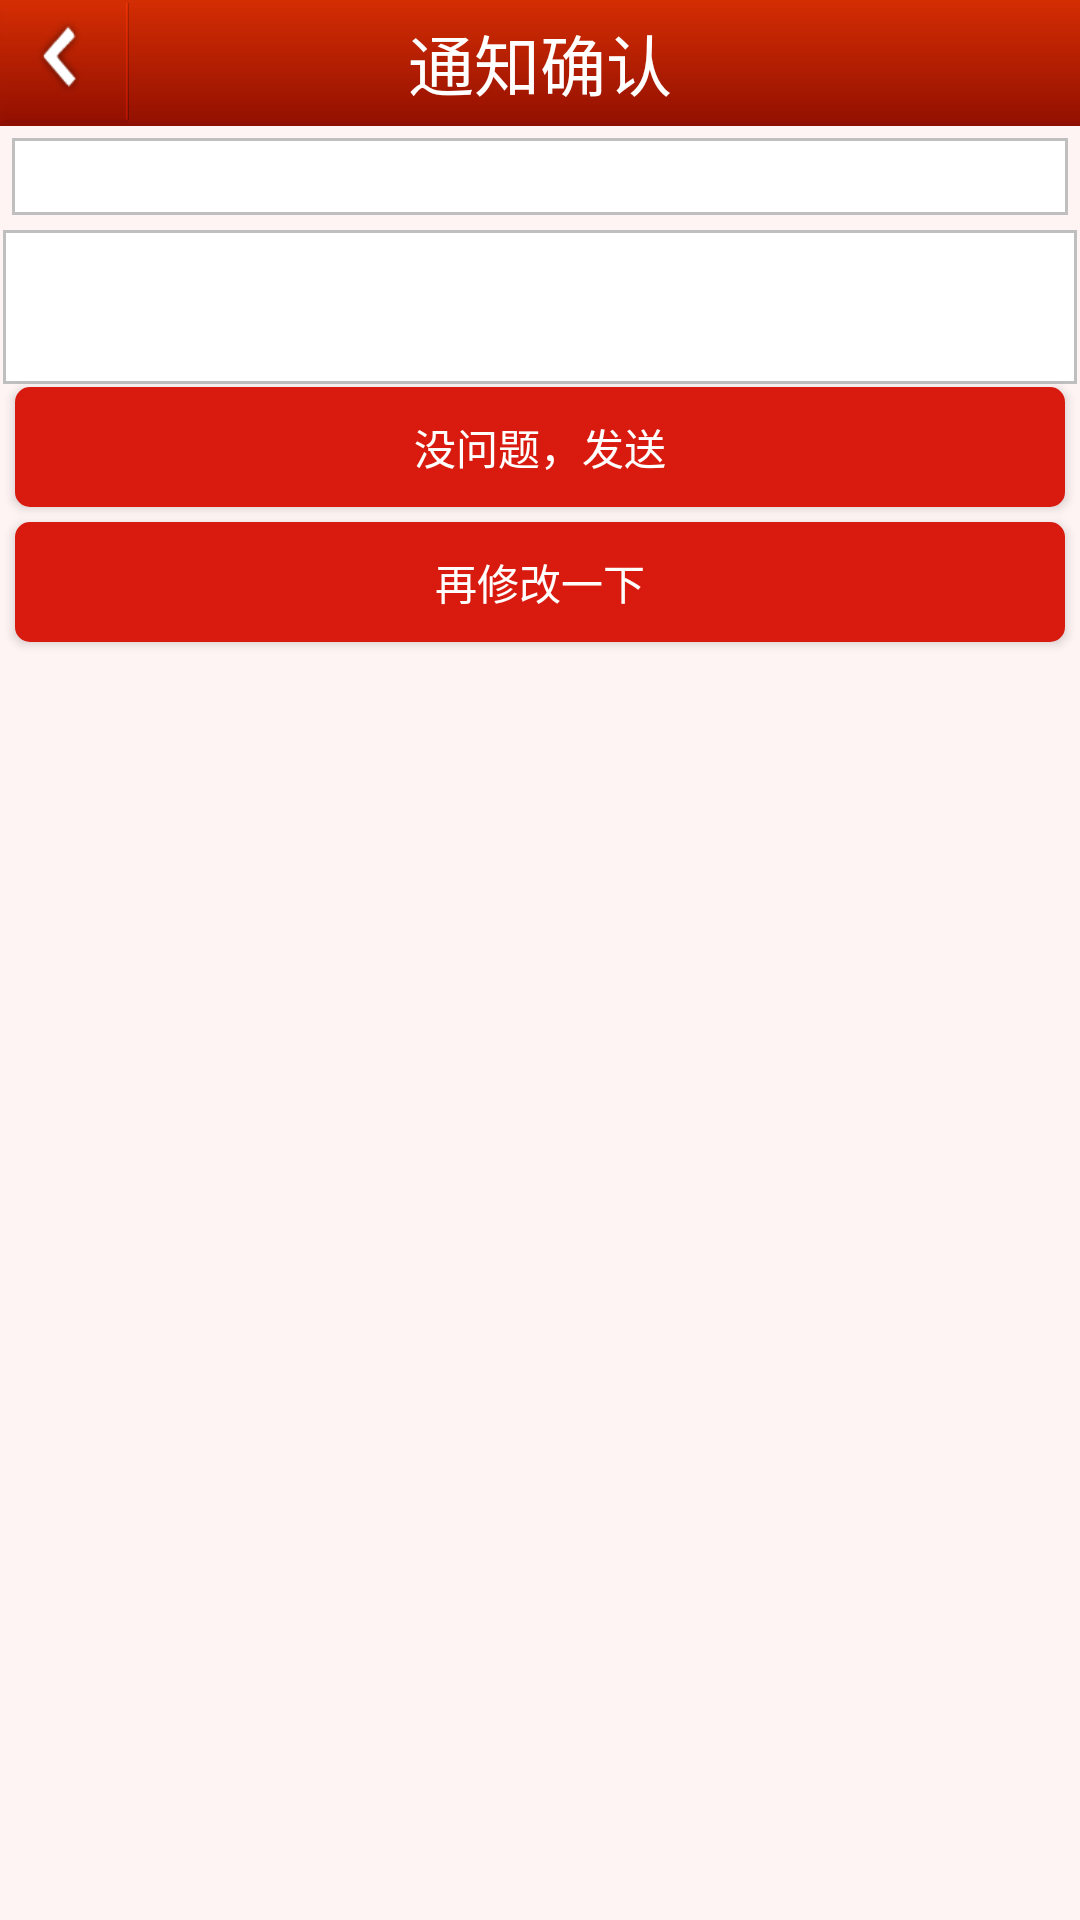

Screen size 1080px×1920px. Icon name, then its center in pixels as point (x, y):
title return: point (66, 63)
